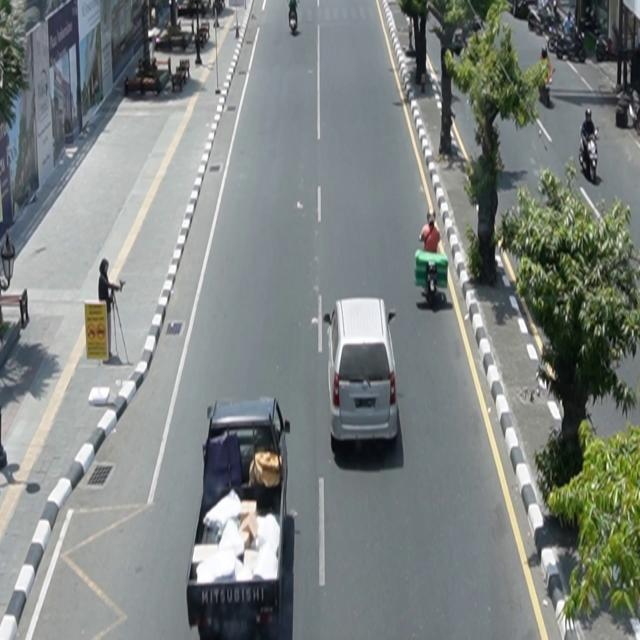car: (187, 397, 296, 640), (324, 297, 400, 450)
